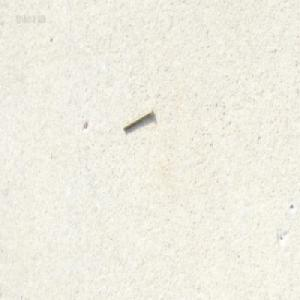Bolt: (122, 106, 153, 131)
